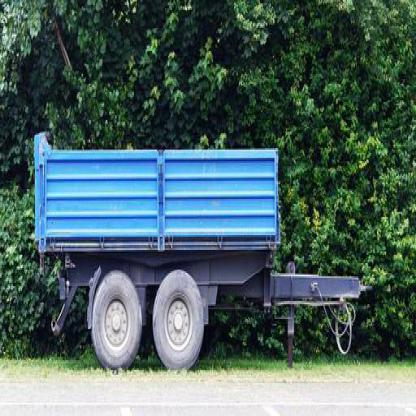Tire: (151, 268, 205, 372), (91, 271, 142, 372)
